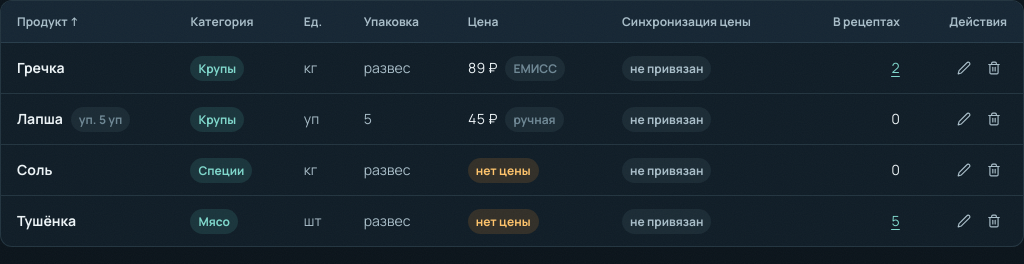
Scenario: ProductTable (рендер и взаимодействия) › сортировка по клику на «Продукт»: сначала asc (стрелка ↑), повторный клик — desc (↓)
Click the column heading "Продукт ↑".
click(42, 22)  # box left=1, top=1, right=174, bottom=43
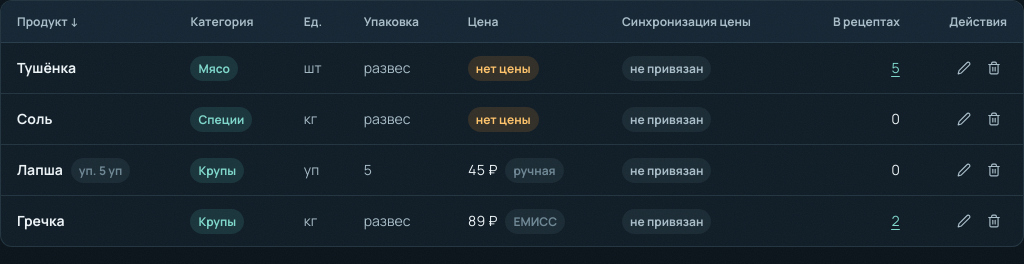
Expected: the column heading "Продукт ↓" is shown, left=1, top=1, right=174, bottom=43
